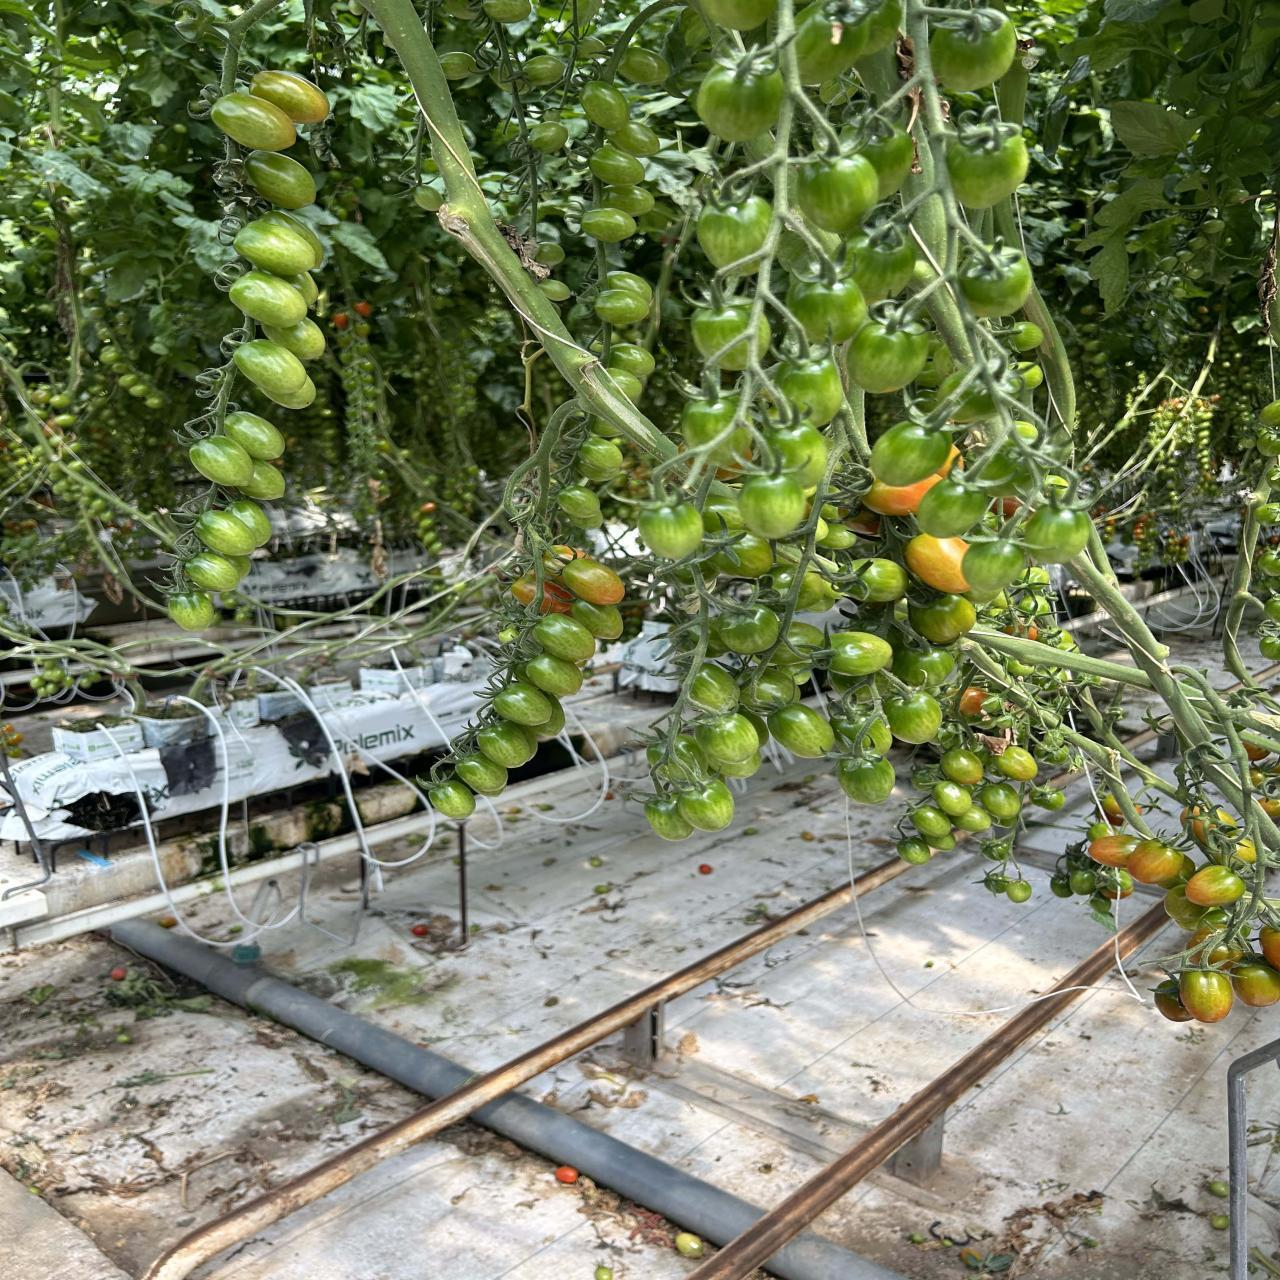Hoja: (1087, 178, 1163, 313), (1111, 102, 1199, 157), (1043, 56, 1090, 156), (1067, 23, 1159, 74), (1096, 178, 1167, 229), (1041, 93, 1069, 157), (1104, 0, 1171, 22), (1227, 145, 1271, 176)
Pedunculo: (362, 0, 675, 457), (961, 640, 1151, 835), (907, 0, 987, 377), (1064, 545, 1210, 748), (750, 0, 829, 342), (1175, 666, 1280, 855), (968, 627, 1150, 688), (1205, 757, 1230, 787)
Tomate Rugoso: (946, 107, 1028, 209), (930, 7, 1016, 93), (696, 63, 784, 142), (797, 155, 878, 234), (846, 320, 928, 394), (232, 213, 322, 277), (233, 340, 315, 409), (958, 244, 1033, 318), (845, 224, 915, 302), (697, 197, 772, 268), (871, 421, 951, 486), (787, 279, 867, 343), (211, 93, 297, 151), (776, 358, 843, 428), (917, 476, 990, 538), (738, 475, 808, 539), (229, 270, 306, 327), (251, 70, 329, 124), (692, 301, 751, 370), (765, 423, 828, 489), (245, 151, 315, 209), (962, 539, 1026, 602), (904, 533, 971, 593), (1022, 505, 1090, 563), (858, 131, 914, 199), (638, 503, 703, 559), (768, 703, 835, 757), (190, 435, 253, 486), (864, 474, 941, 516), (681, 393, 740, 448), (910, 597, 976, 645), (682, 393, 740, 448), (695, 714, 761, 762), (196, 510, 261, 557), (883, 693, 941, 744), (224, 411, 285, 461), (679, 778, 735, 831), (1125, 839, 1186, 887), (533, 614, 595, 661), (832, 708, 892, 756), (1179, 969, 1233, 1022), (563, 559, 625, 605), (477, 722, 537, 769), (721, 607, 779, 654), (492, 682, 553, 727), (837, 757, 894, 804), (261, 318, 325, 360), (831, 632, 892, 675), (740, 666, 797, 710), (716, 533, 774, 578), (1185, 865, 1245, 907), (689, 663, 738, 714), (580, 81, 629, 130), (524, 655, 583, 696), (892, 648, 954, 687), (771, 622, 825, 666), (700, 0, 776, 30), (456, 751, 508, 795), (185, 552, 240, 592), (577, 435, 622, 482), (645, 796, 693, 840), (860, 558, 908, 602), (227, 499, 271, 549), (590, 145, 645, 184), (571, 600, 624, 640), (607, 343, 655, 387), (594, 290, 649, 327), (558, 485, 604, 530), (1232, 965, 1280, 1007), (608, 270, 653, 314), (618, 46, 670, 83), (581, 207, 636, 243), (975, 783, 1021, 825), (168, 593, 218, 631), (429, 781, 476, 819), (1164, 887, 1205, 931), (712, 422, 751, 467), (610, 121, 660, 156), (1088, 833, 1139, 867), (796, 570, 838, 611), (240, 461, 285, 499), (1153, 980, 1193, 1022), (993, 744, 1037, 782), (601, 185, 654, 216), (940, 748, 983, 784), (932, 781, 973, 817), (910, 804, 952, 838), (535, 696, 565, 741), (607, 368, 644, 404), (523, 54, 565, 84), (529, 121, 568, 152), (483, 0, 532, 25), (438, 50, 478, 80), (953, 805, 992, 833), (288, 272, 319, 307), (220, 547, 254, 578), (897, 838, 932, 865), (1207, 945, 1244, 968), (771, 567, 795, 602), (536, 241, 565, 267), (539, 279, 572, 301), (415, 185, 443, 211), (1070, 870, 1097, 896), (1005, 879, 1032, 903), (756, 313, 770, 358), (578, 36, 606, 59), (927, 832, 956, 851)
